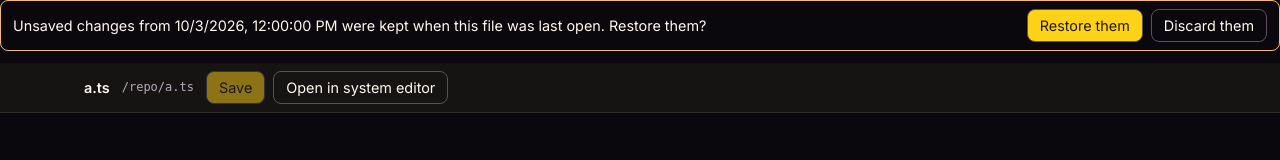
Test case: editor recovery › discarding the kept buffer removes it
This screenshot has width=1280, height=160.
Step 1. Click the button "Discard them" → (1209, 26), box x1=1151 y1=9 x2=1267 y2=42
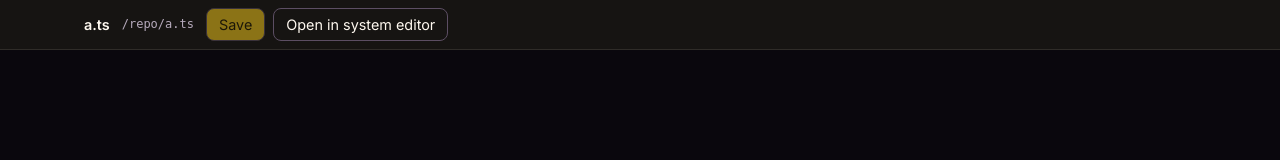
Check: the text "were kept" is gone
